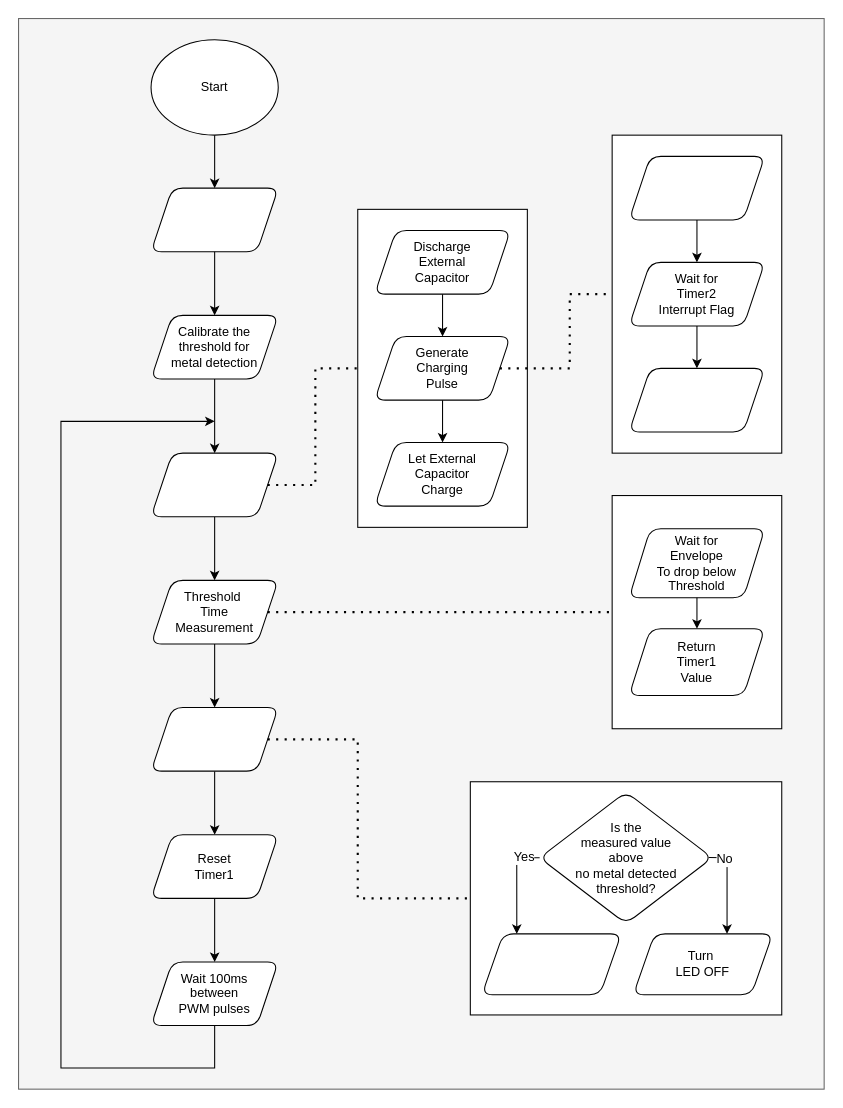
Image size: 843x1108. Some labels were removed from this diagram. Here are the shapes that lost their labels. From the top down, the centre of each, then its label:
At point 696,187: "Start Timer2".
At point 214,219: "Initialize MCU, peripherals, pins".
At point 696,399: "Clear Timer2 Interrupt Flag".
At point 214,484: "Prepare Envelope".
At point 214,738: "Compare the Measured Values".
At point 551,964: "Turn LED ON".
